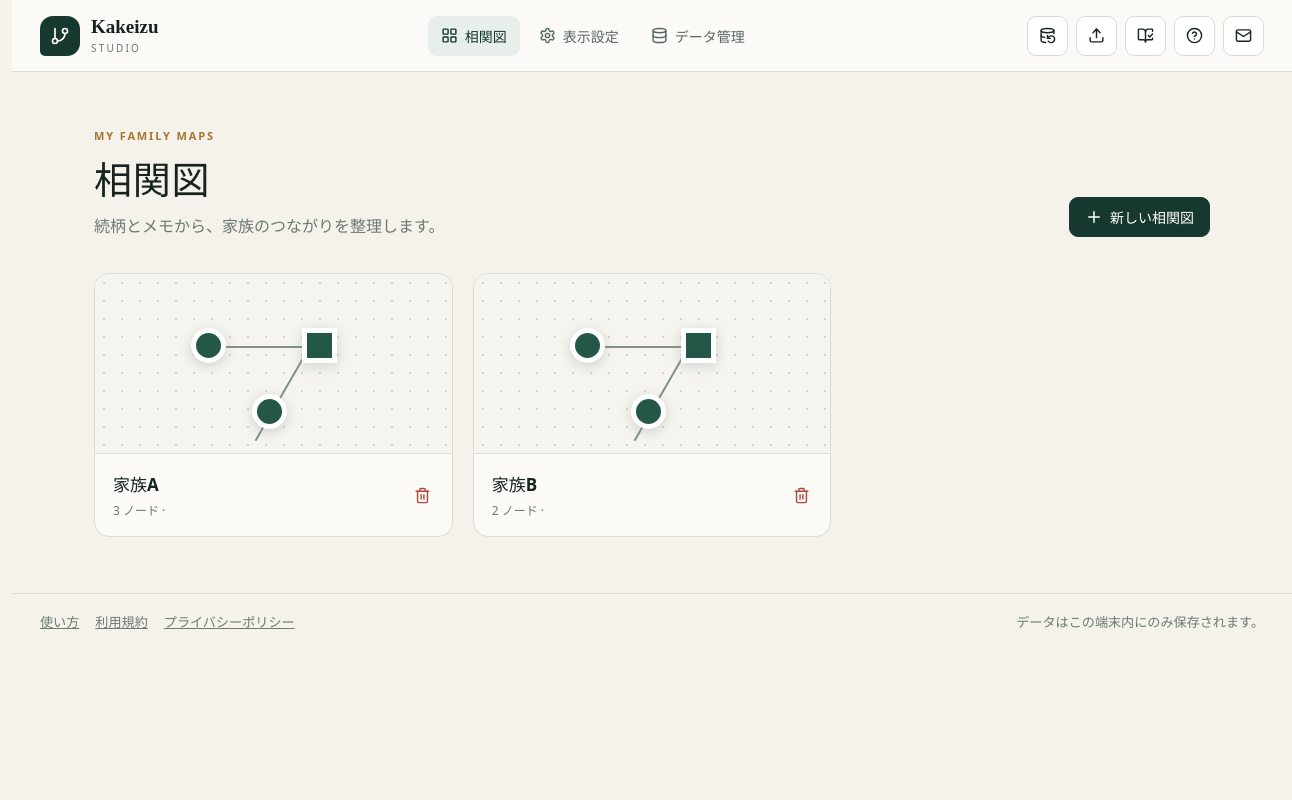
Test: 相関図一覧の個別JSON書き出し › 通常時のカードクリックで編集画面へ移動する
The width and height of the screenshot is (1292, 800).
Click the button named "家族Aを開く" at (273,364), box [95,274,452,454]
(page scrolled)
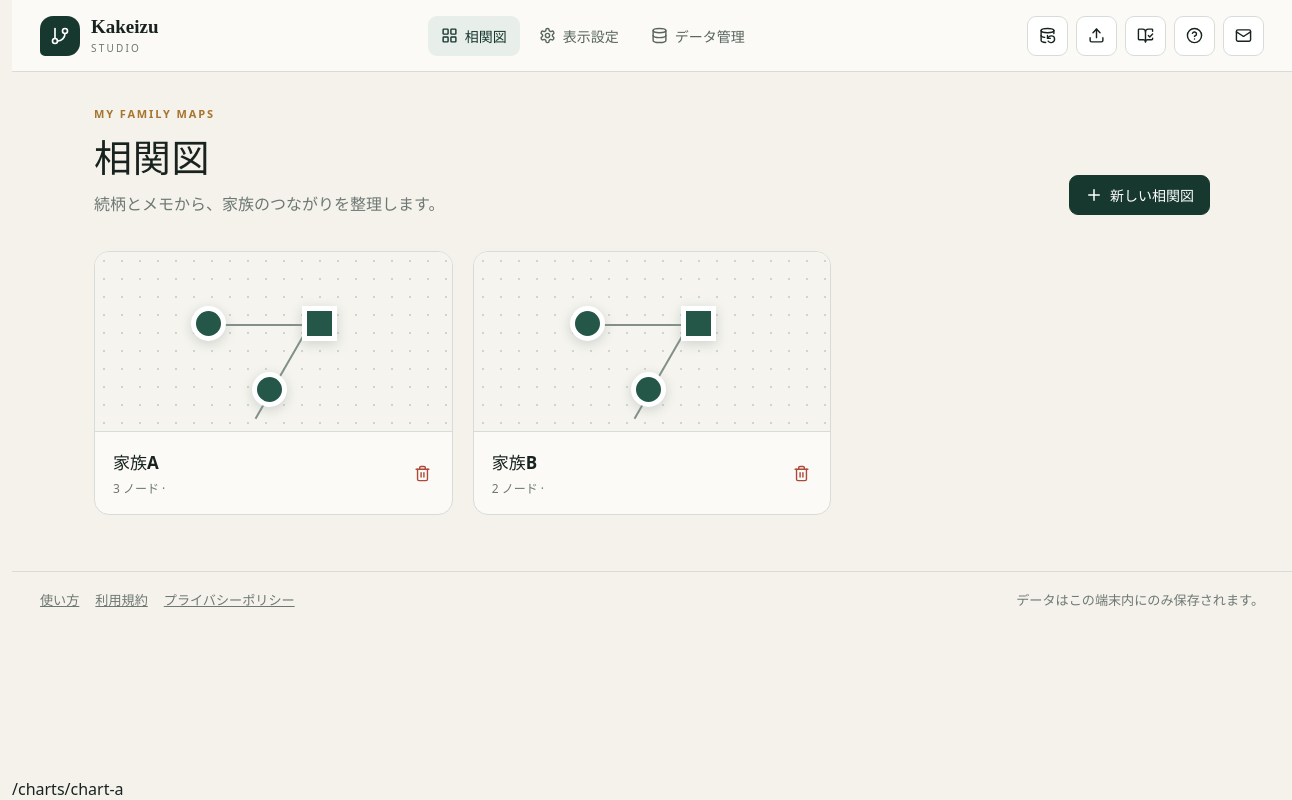
Check: the text with test id "location" reads "/charts/chart-a", box [12,778,124,799]
